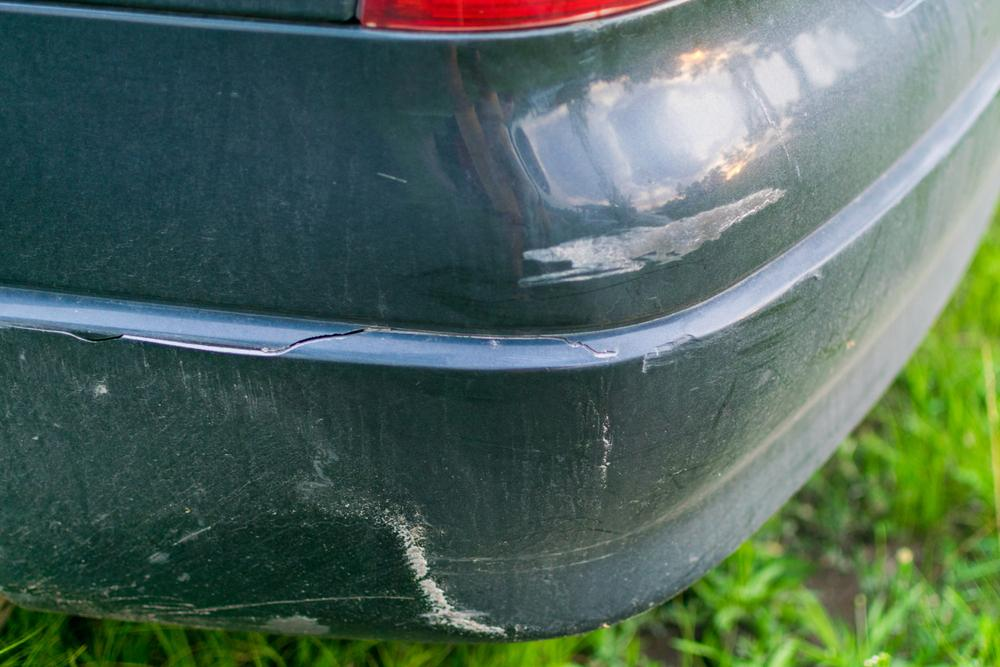crack: (0, 320, 620, 358)
scratch: (517, 179, 805, 296)
